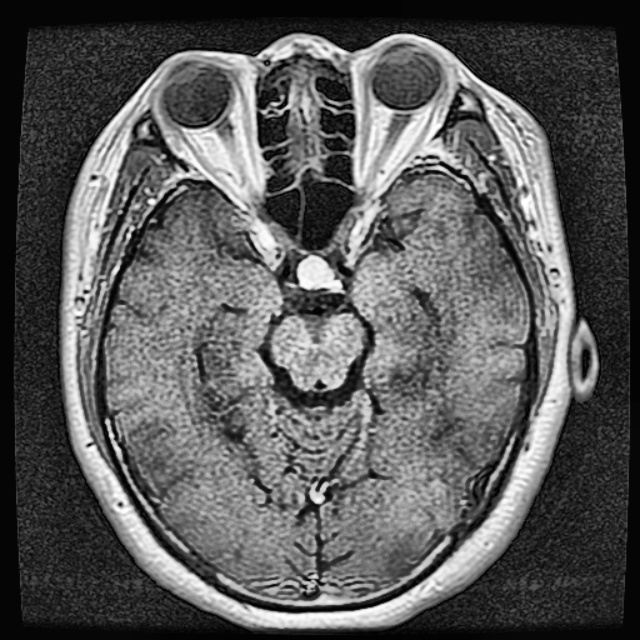Pituitary: (299, 257, 332, 284)
